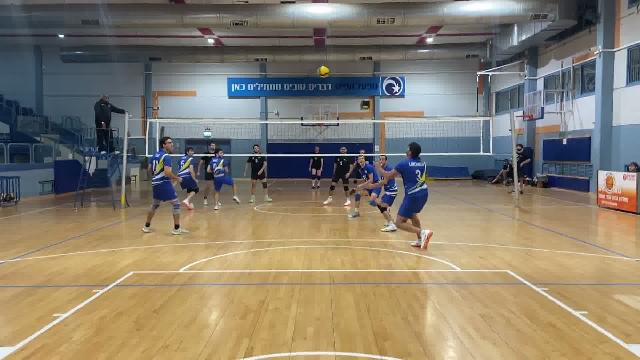ball: (316, 65, 332, 79)
